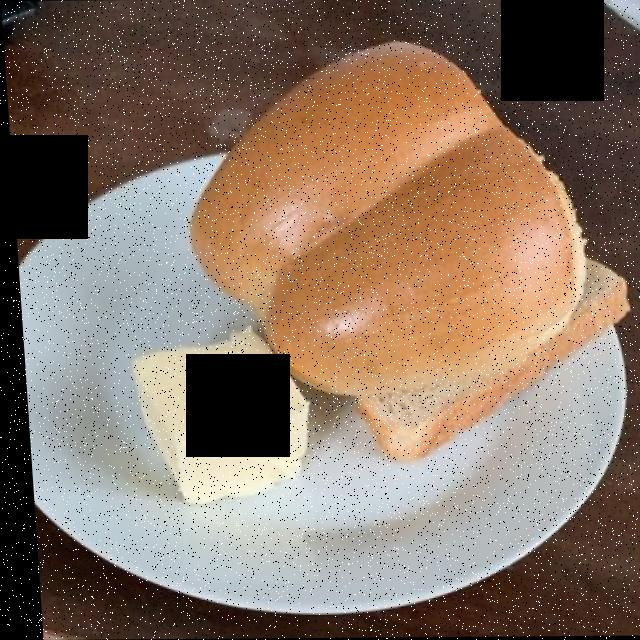bread-white: (173, 32, 624, 458)
butter: (129, 332, 297, 502)
